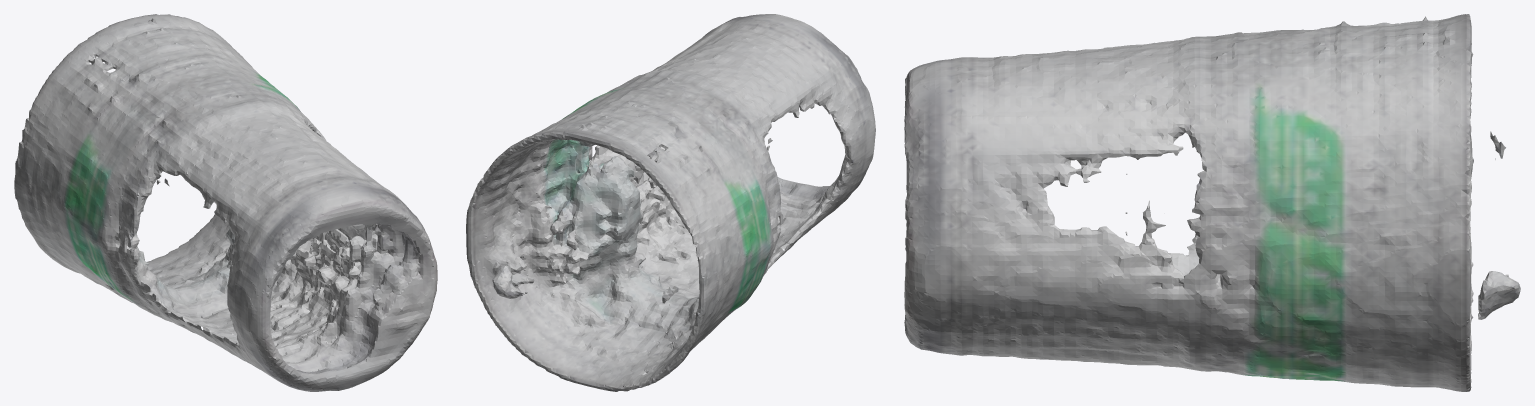
3 renders of one model, left to right at view 1: azimuth 30°, elevation 25°; view 2: azimuth 150°, elevation 25°; view 3: azimuth 270°, elevation 25°, orthographic. The views are drawn at different scales.
Parts seen in each view (by area): view 1: geometry_0; view 2: geometry_0; view 3: geometry_0.
Boxes of the visible parts, x1,y1,x2,y2 form: geometry_0: (14,14,437,391); geometry_0: (466,14,875,391); geometry_0: (904,14,1520,391).
Size of the model in its own units: 1.14 by 1.14 by 1.87.
